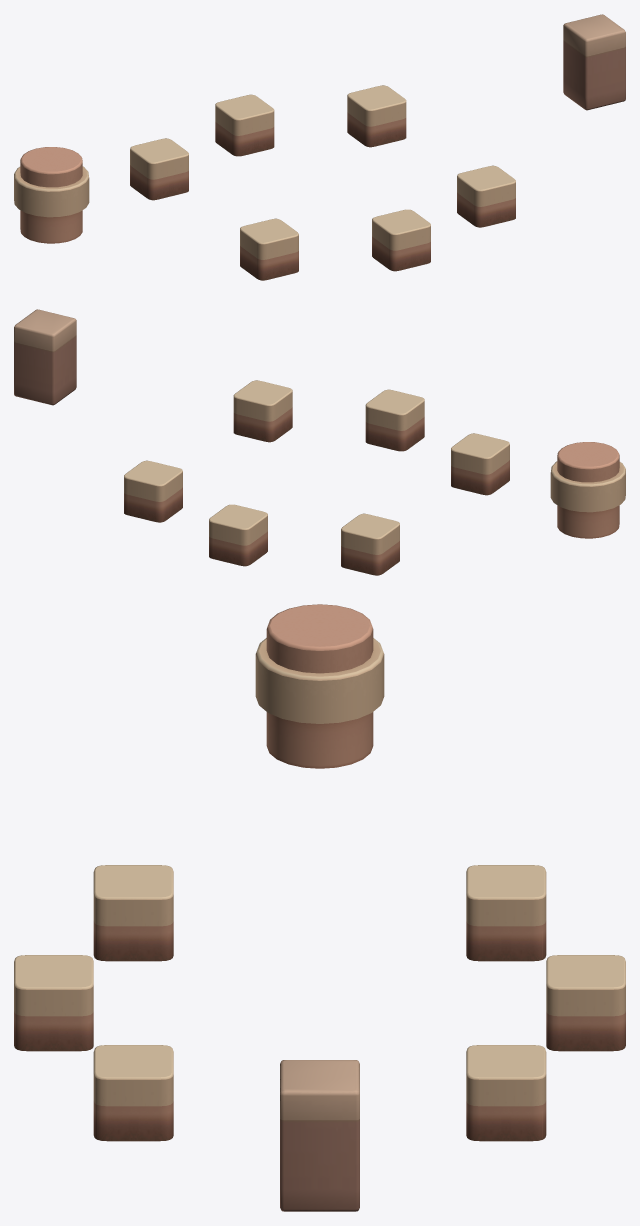
The model's file is Props.fbx.
3 renders of one model, top to bottom at view 1: azimuth 30°, elevation 25°; view 2: azimuth 150°, elevation 25°; view 3: azimuth 270°, elevation 25°, orthographic. The views are drawn at different scales.
Parts seen in each view (by area): view 1: Cylinder, Box03, Box01 (5), Box01 (3), Box01 (4), Box01 (1), Box01 (2), Box01; view 2: Cylinder, Box03, Box01 (4), Box01 (1), Box01 (5), Box01 (3), Box01, Box01 (2); view 3: Cylinder, Box03, Box01, Box01 (2), Box01 (1), Box01 (3), Box01 (4), Box01 (5).
Part boxes in pixels (left/top/right/bottom): Cylinder: left=14, top=147, right=89, bottom=243; Box03: left=563, top=14, right=625, bottom=110; Box01 (5): left=215, top=94, right=274, bottom=156; Box01 (3): left=347, top=85, right=406, bottom=147; Box01 (4): left=372, top=209, right=430, bottom=271; Box01 (1): left=457, top=165, right=515, bottom=227; Box01 (2): left=130, top=138, right=188, bottom=200; Box01: left=240, top=218, right=298, bottom=280; Cylinder: left=550, top=442, right=625, bottom=538; Box03: left=14, top=309, right=76, bottom=405; Box01 (4): left=365, top=389, right=424, bottom=451; Box01 (1): left=233, top=380, right=292, bottom=442; Box01 (5): left=209, top=504, right=267, bottom=566; Box01 (3): left=124, top=460, right=182, bottom=522; Box01: left=451, top=433, right=509, bottom=495; Box01 (2): left=341, top=513, right=399, bottom=575; Cylinder: left=255, top=604, right=384, bottom=768; Box03: left=280, top=1060, right=359, bottom=1211; Box01: left=93, top=865, right=173, bottom=961; Box01 (2): left=466, top=865, right=546, bottom=961; Box01 (1): left=93, top=1045, right=173, bottom=1141; Box01 (3): left=466, top=1045, right=546, bottom=1141; Box01 (4): left=14, top=955, right=93, bottom=1051; Box01 (5): left=546, top=955, right=625, bottom=1051.
Size of the model in its own units: 43.91 by 7.62 by 23.
